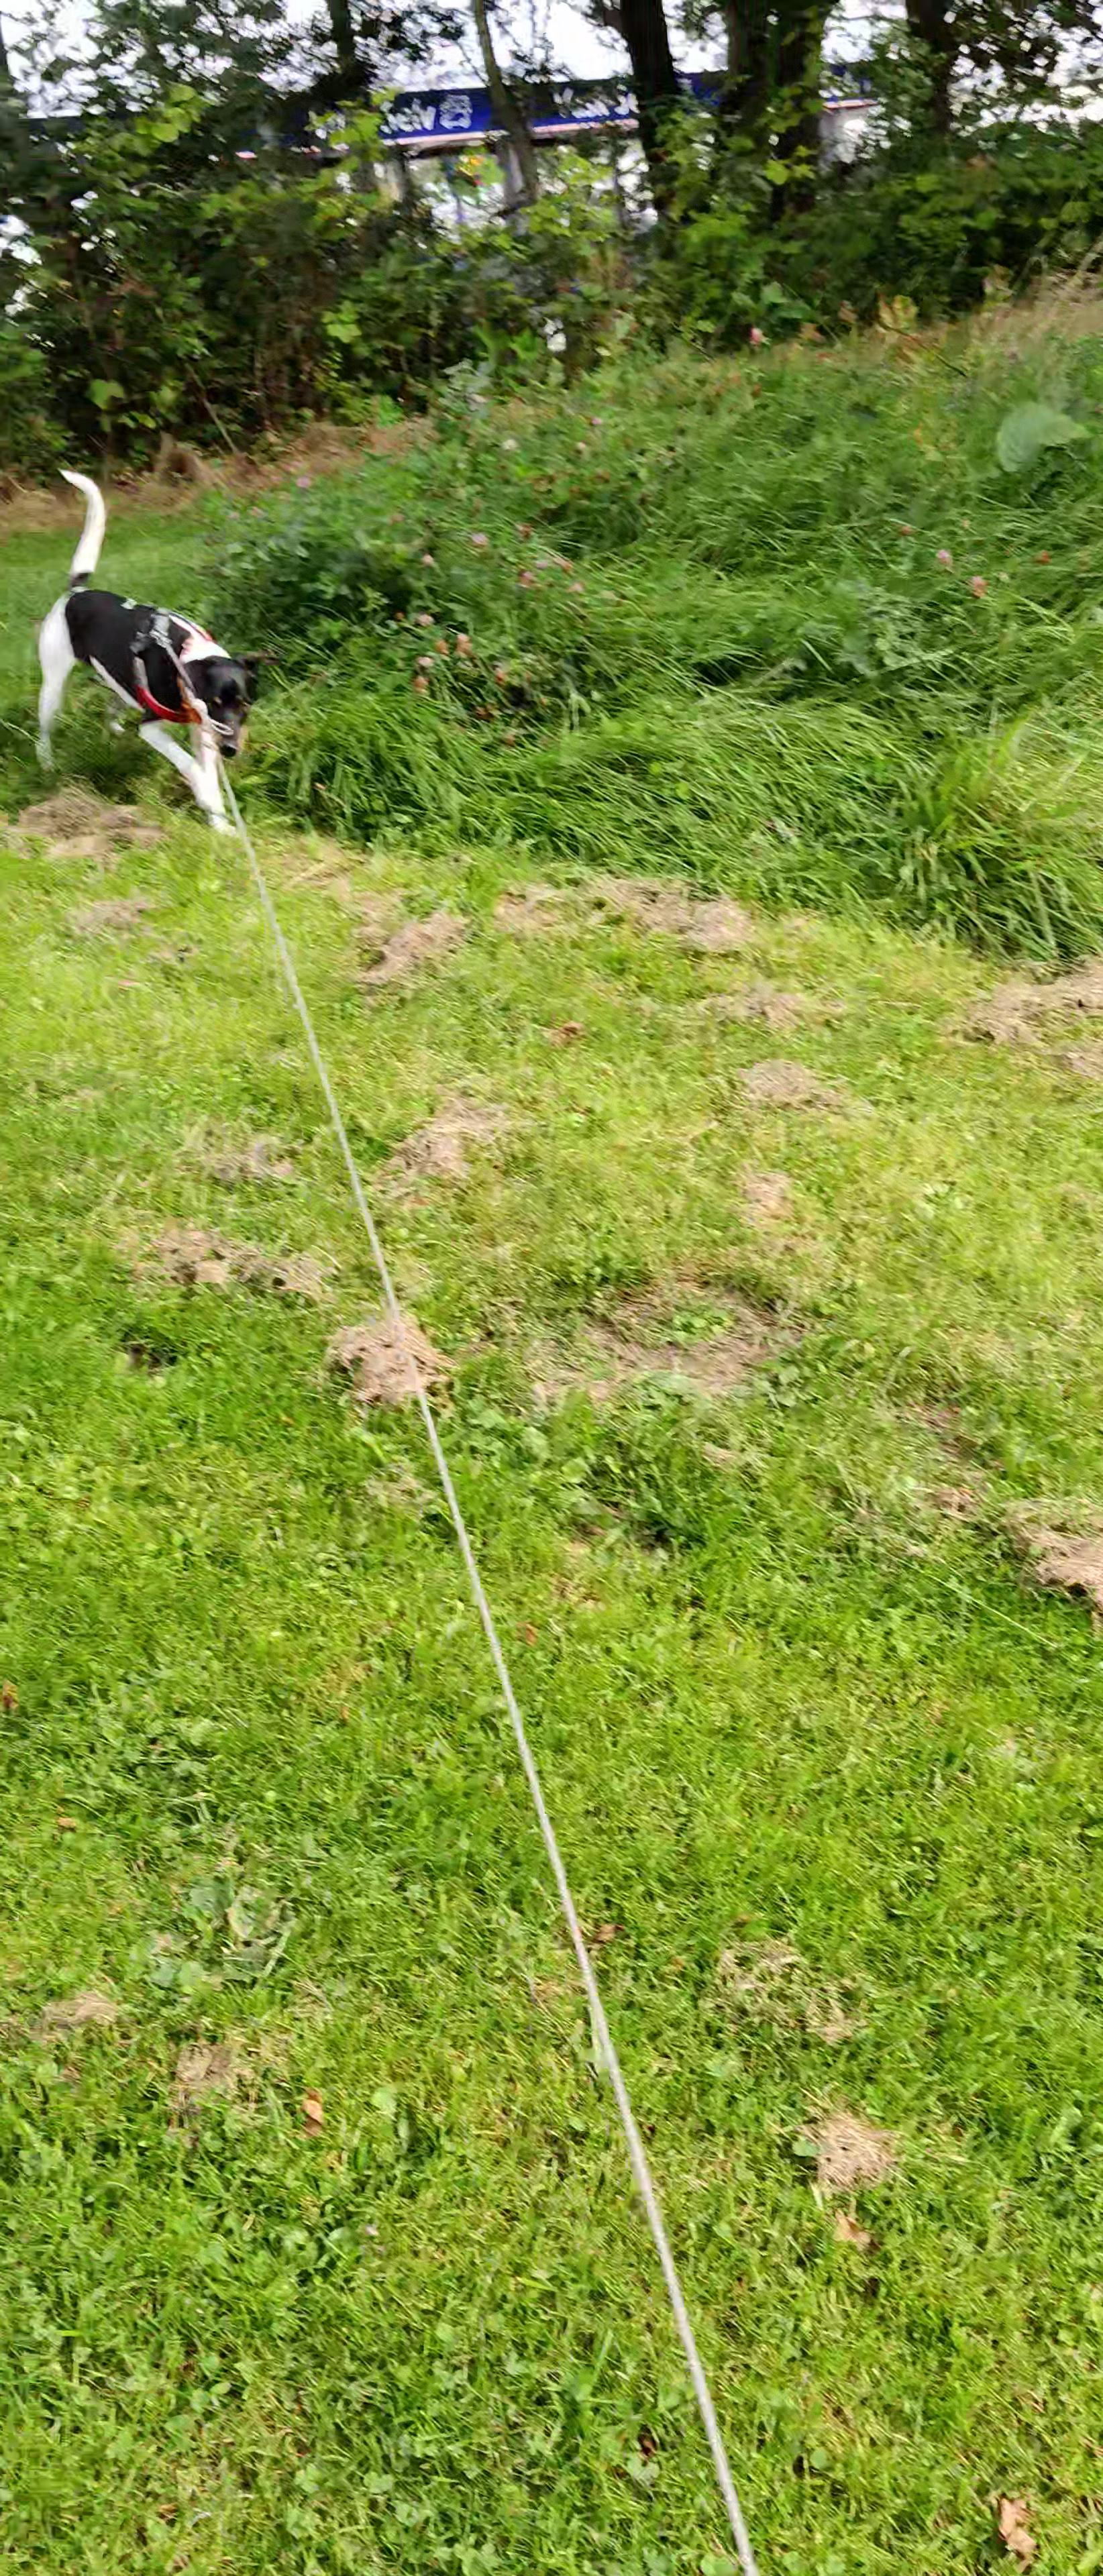Dog: (25, 462, 273, 838)
